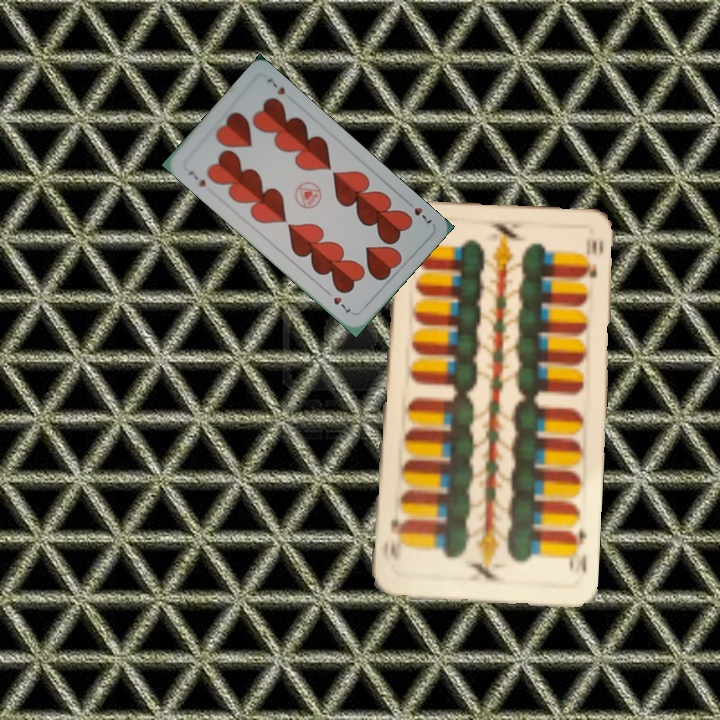E10: (564, 523, 589, 575)
H7: (402, 196, 434, 226), (184, 167, 208, 190)
